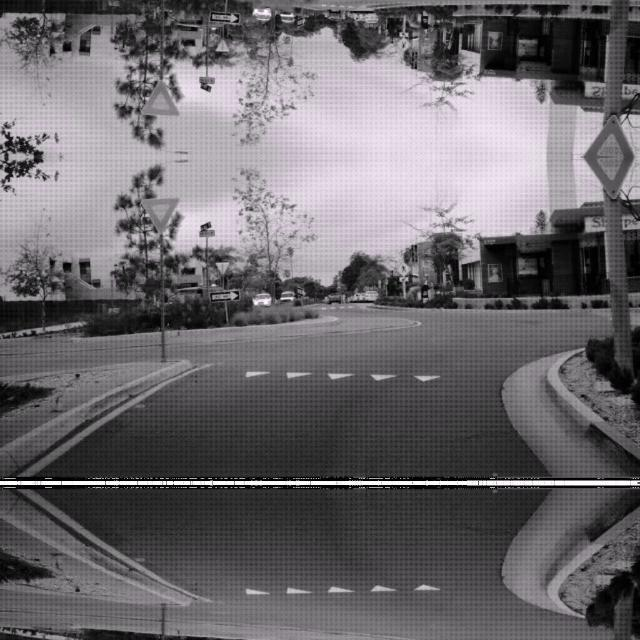pedestrianCrossing: (396, 260, 410, 274), (396, 38, 410, 52)
yield: (140, 195, 180, 233), (140, 79, 180, 117)
